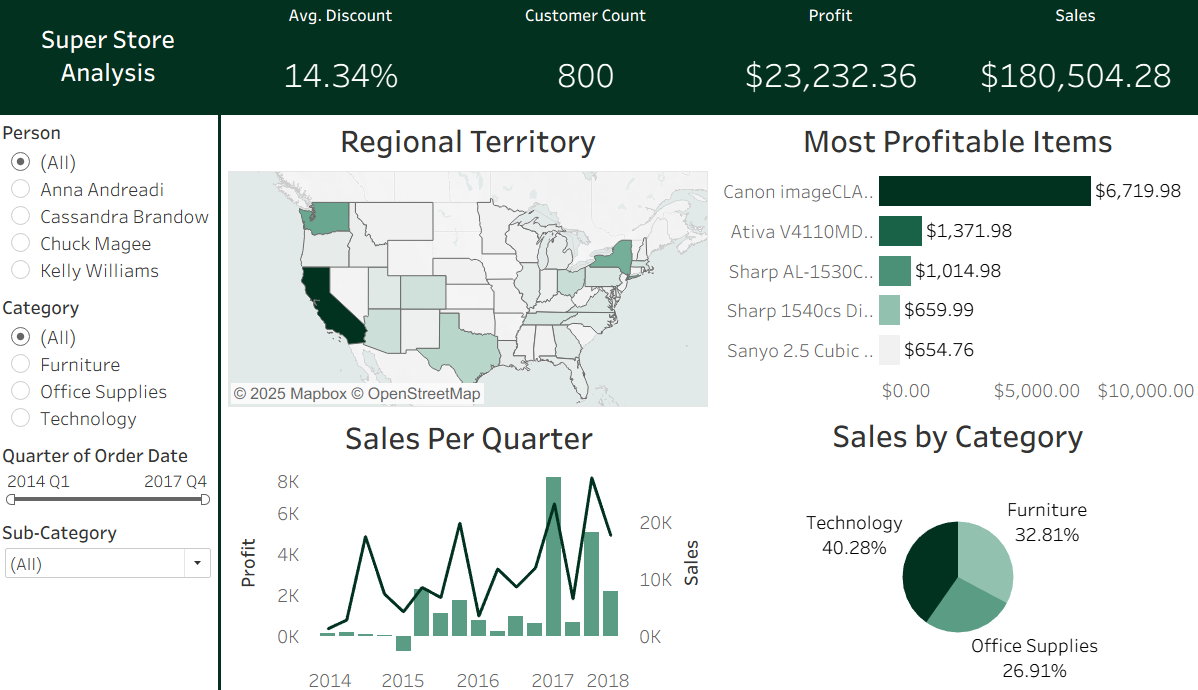

The page's visual inventory and layout, read from the dashboard file:
{"tool":"tableau","page":{"name":"Dashboard 1","canvas":[1200,700],"ordinal":0},"visuals":[{"type":"text","box":[0,0,220,120]},{"type":"worksheet","title":"Header","mark":"Automatic","box":[220,0,980,120]},{"type":"filter","title":"Map","param":"[federated.16xejb00wuql8i1gv8fq61nqal8l].[none:Person:nk]","box":[0,120,220,175]},{"type":"worksheet","title":"Map","mark":"Multipolygon","box":[230,120,480,292]},{"type":"worksheet","title":"Items","mark":"Automatic","rows":["Product Name"],"cols":["Profit"],"box":[721,120,478,287]},{"type":"filter","title":"Profit/Sales","param":"[federated.16xejb00wuql8i1gv8fq61nqal8l].[none:Category:nk]","box":[0,295,220,148]},{"type":"worksheet","title":"Pie","mark":"Pie","box":[721,415,478,278]},{"type":"worksheet","title":"Profit/Sales","mark":"Automatic","rows":["Profit","Sales"],"cols":["Order Date"],"box":[230,417,482,280]},{"type":"filter","title":"Profit/Sales","param":"[federated.16xejb00wuql8i1gv8fq61nqal8l].[tqr:Order Date:qk]","box":[0,443,220,77]},{"type":"filter","title":"Pie","param":"[federated.16xejb00wuql8i1gv8fq61nqal8l].[none:Sub-Category:nk]","box":[0,520,220,70]}]}

Visuals, with their boxes in screenshot pixels (x1, y1, x2, y2), scaled from the page's 1200x700 canvas onto the 1198x690 screenshot:
text: 0 0 220 118
"Header" worksheet: 220 0 1197 118
"Map" filter: 0 118 220 291
"Map" worksheet (Multipolygon marks): 230 118 709 406
"Items" worksheet: 720 118 1197 401
"Profit/Sales" filter: 0 291 220 437
"Pie" worksheet (Pie marks): 720 409 1197 683
"Profit/Sales" worksheet: 230 411 711 687
"Profit/Sales" filter: 0 437 220 513
"Pie" filter: 0 513 220 582
